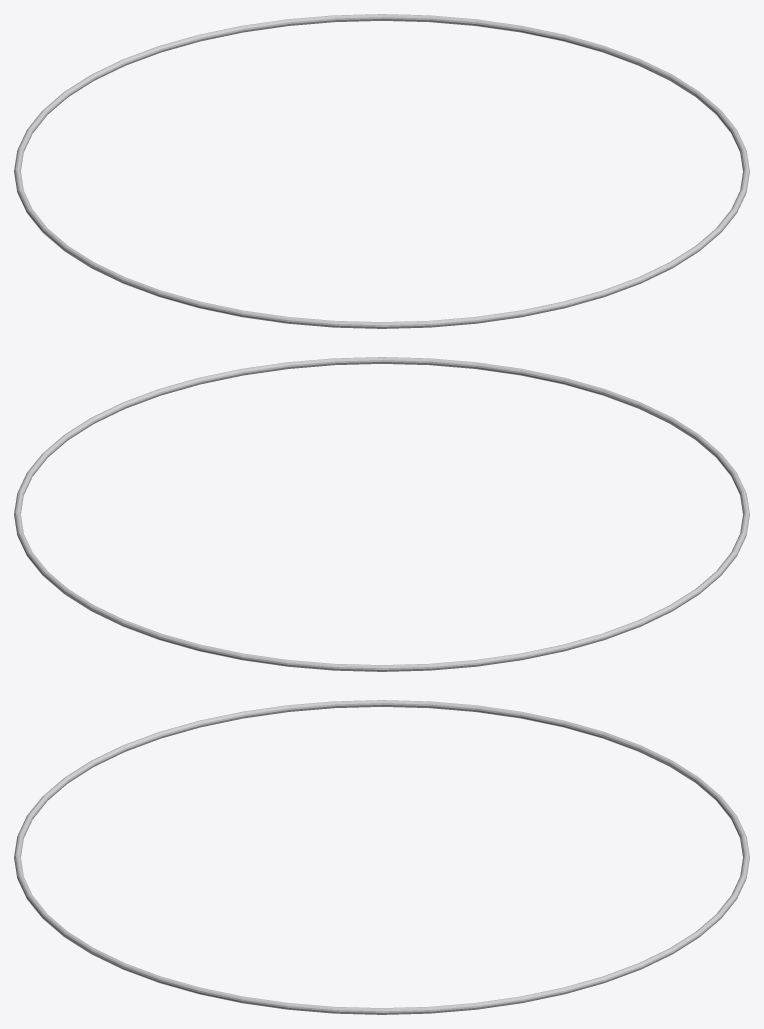
The model's file is ling_s.fbx.
3 renders of one model, top to bottom at view 1: azimuth 30°, elevation 25°; view 2: azimuth 150°, elevation 25°; view 3: azimuth 270°, elevation 25°, orthographic.
Visible parts, largest first — view 1: Torus; view 2: Torus; view 3: Torus.
Boxes of the visible parts, bbox=[...] form: Torus: bbox=[14, 14, 749, 328]; Torus: bbox=[14, 357, 749, 671]; Torus: bbox=[14, 700, 749, 1014].
Bounding box in the file's own units: 1.99 × 1.99 × 0.0185.
Materials: 1 (1 with a texture image).
